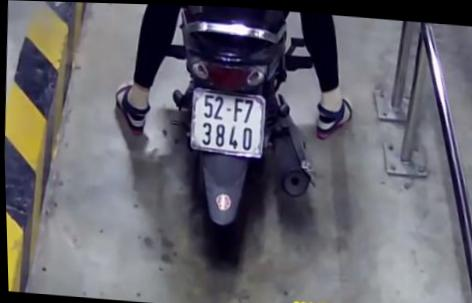LP: (185, 85, 269, 159)
